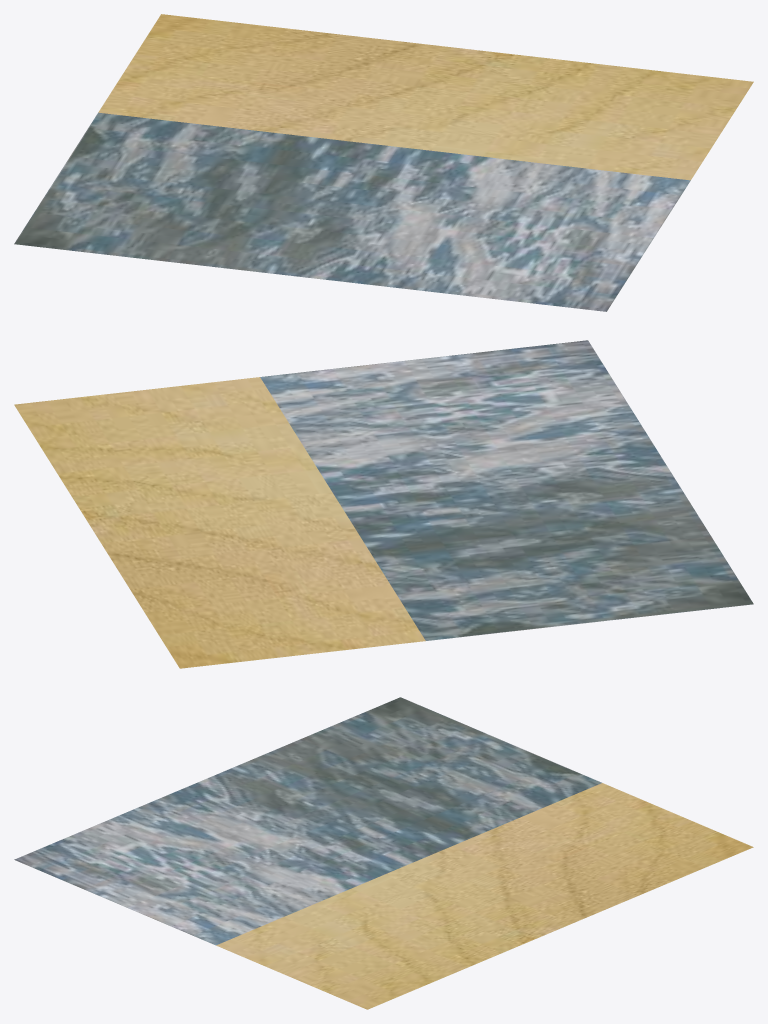
File: stage1.FBX
3 renders of one model, top to bottom at view 1: azimuth 30°, elevation 25°; view 2: azimuth 150°, elevation 25°; view 3: azimuth 270°, elevation 25°, orthographic. The views are drawn at different scales.
Visible parts, largest first — view 1: Plane003; view 2: Plane003; view 3: Plane003.
Part boxes in pixels (<box>): Plane003: <box>14,14,753,311</box>; Plane003: <box>14,340,753,668</box>; Plane003: <box>14,697,753,1009</box>.
Bounding box in the file's own units: 2392 × 2392 × 0.
